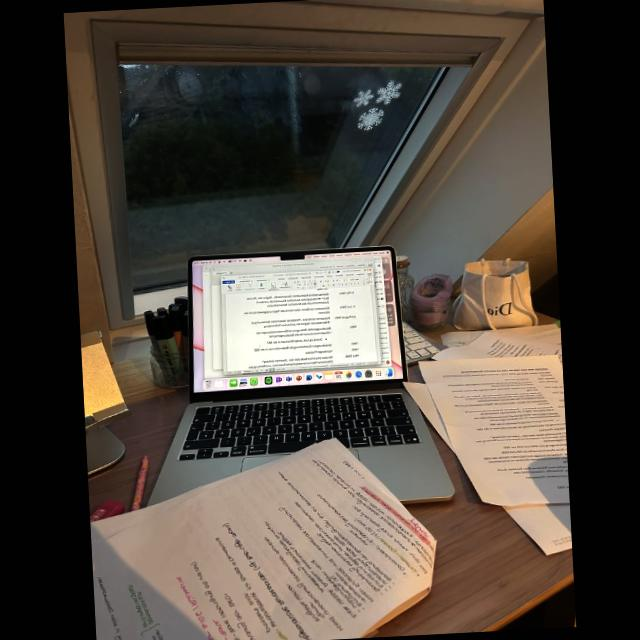laptop: (142, 234, 422, 516)
